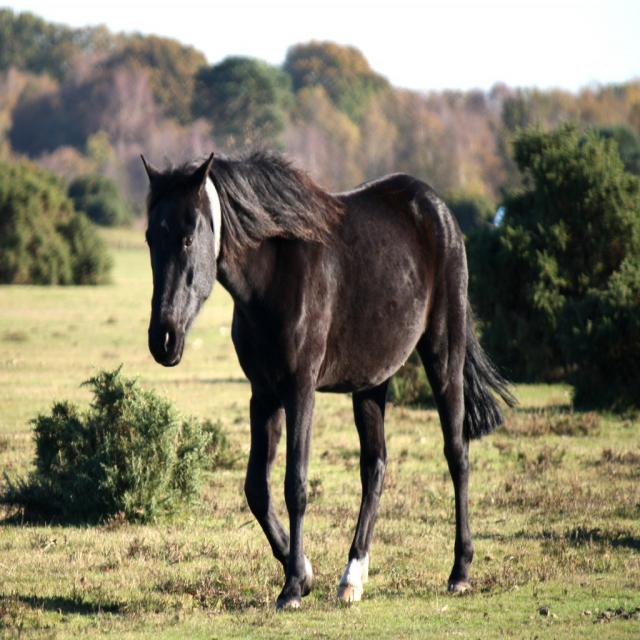Horse: (141, 150, 523, 608)
